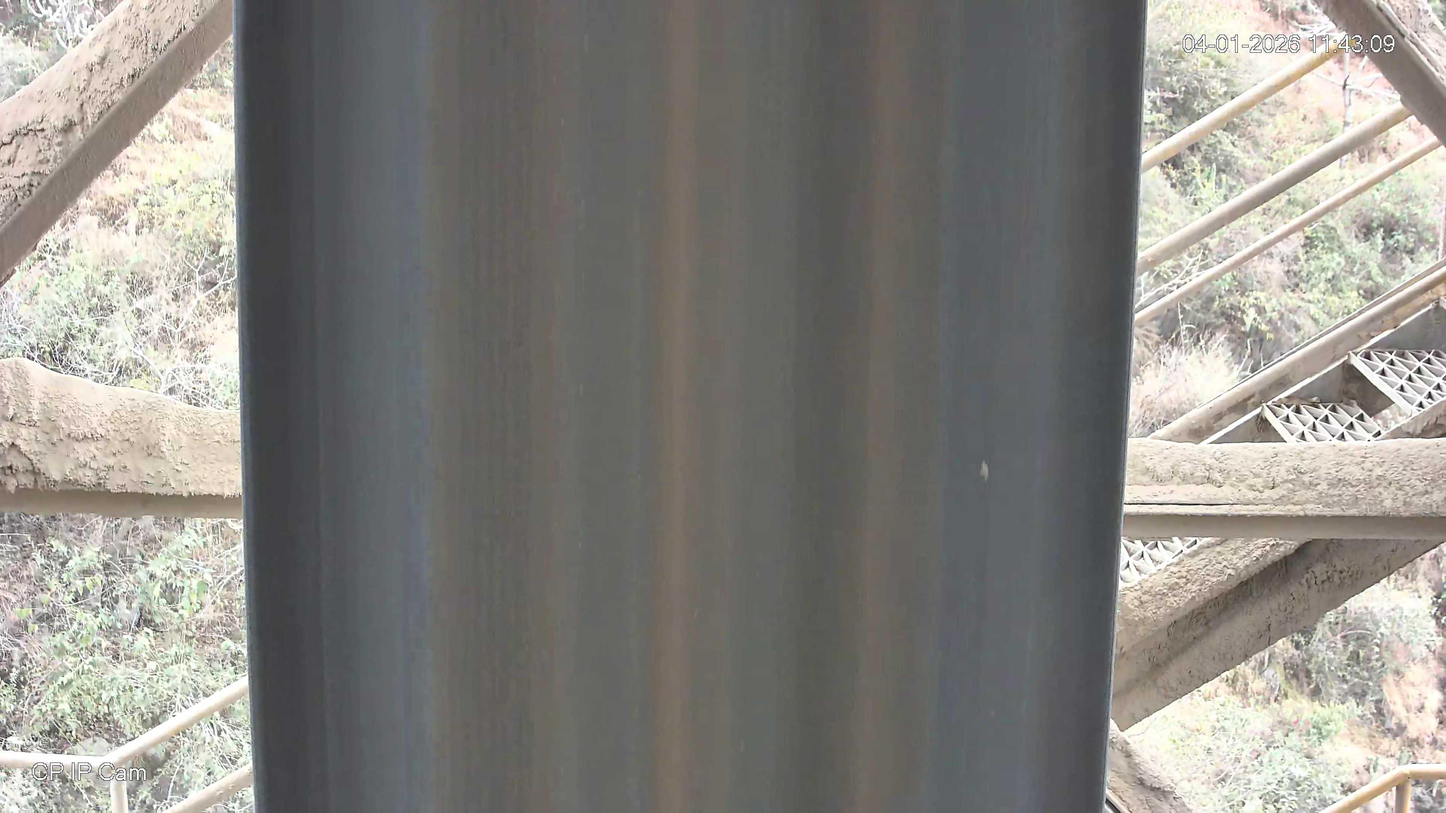belt_roi: (232, 0, 1148, 813)
